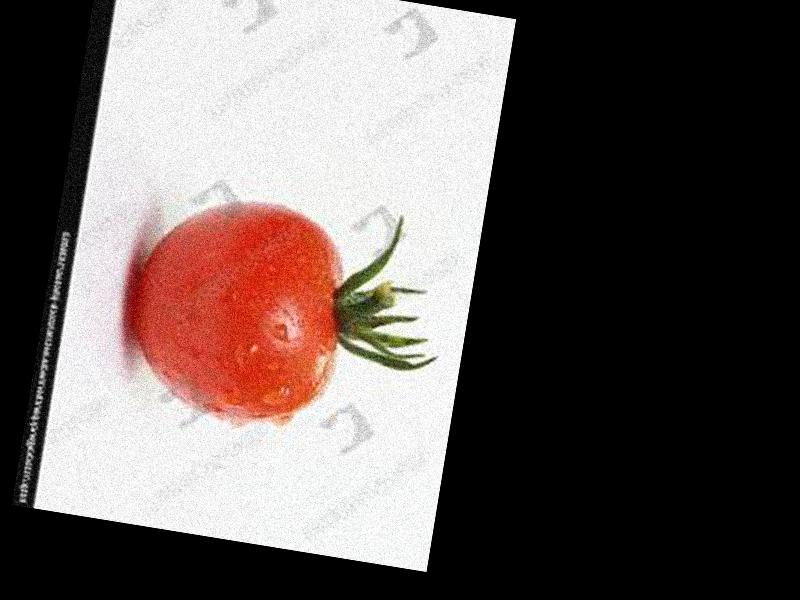Tomato: (117, 184, 356, 429)
